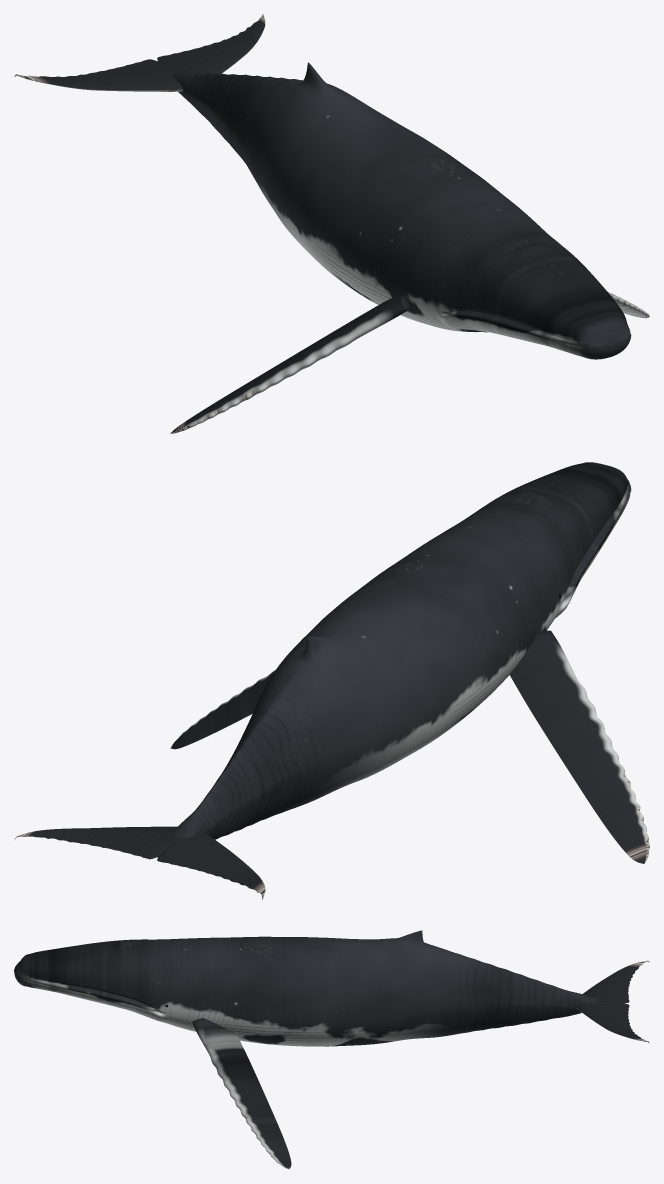
File: humpback-whale.glb
The picture shows the model from 3 angles, top to bottom: view 1: azimuth 30°, elevation 25°; view 2: azimuth 150°, elevation 25°; view 3: azimuth 270°, elevation 25°; orthographic projection. The views are drawn at different scales.
Visible parts, largest first — view 1: Humpback whale (static rest pose); view 2: Humpback whale (static rest pose); view 3: Humpback whale (static rest pose).
Boxes of the visible parts, x1,y1,x2,y2 form: Humpback whale (static rest pose): (14,14,649,433); Humpback whale (static rest pose): (14,462,649,899); Humpback whale (static rest pose): (14,930,649,1169).
Size of the model in its own units: 8.74 by 4.24 by 15.14.
Materials: 1 (1 with a texture image).
